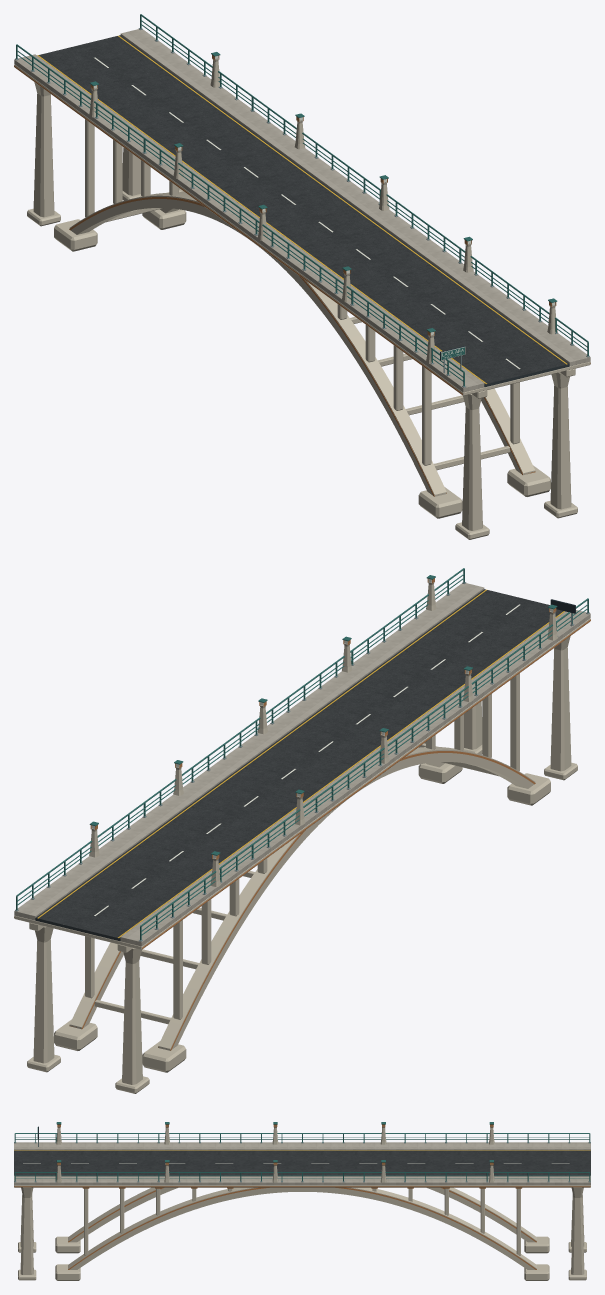
3 views of the same model, one above another, from view 1: azimuth 30°, elevation 25°; view 2: azimuth 150°, elevation 25°; view 3: azimuth 270°, elevation 25° (orthographic). The views are drawn at different scales.
Parts seen in each view (by area): view 1: Running course, Walkway, End bents, Twin parabolic arch ribs, Longitudinal handrails, Spandrel mullions, Chamfered foundations, Lantern pylons, Concrete deck table, Railing stanchions, Edge lines, Arch diaphragms (+1 smaller); view 2: Running course, Walkway, End bents, Twin parabolic arch ribs, Longitudinal handrails, Spandrel mullions, Chamfered foundations, Lantern pylons, Concrete deck table, Railing stanchions, Edge lines, Arch diaphragms (+1 smaller); view 3: Running course, Walkway, Twin parabolic arch ribs, Longitudinal handrails, End bents, Chamfered foundations, Concrete deck table, Spandrel mullions, Deck fascia reveal, Lantern pylons, Railing stanchions, Edge lines (+1 smaller).
Part boxes in pixels (x1,y1,x2,y2): Running course: [38, 35, 569, 387]; Walkway: [14, 29, 590, 392]; End bents: [33, 82, 571, 530]; Twin parabolic arch ribs: [69, 193, 535, 496]; Longitudinal handrails: [16, 14, 588, 381]; Spandrel mullions: [85, 119, 519, 465]; Chamfered foundations: [27, 191, 577, 539]; Lantern pylons: [89, 58, 557, 363]; Concrete deck table: [14, 64, 590, 395]; Railing stanchions: [16, 15, 588, 386]; Edge lines: [37, 35, 567, 383]; Arch diaphragms: [106, 189, 510, 470]; Running course: [35, 589, 563, 941]; Walkway: [14, 583, 590, 946]; End bents: [33, 636, 571, 1084]; Twin parabolic arch ribs: [69, 747, 535, 1050]; Longitudinal handrails: [16, 568, 588, 935]; Spandrel mullions: [85, 673, 519, 1019]; Chamfered foundations: [27, 745, 577, 1093]; Lantern pylons: [89, 582, 557, 886]; Concrete deck table: [14, 618, 590, 949]; Railing stanchions: [16, 569, 588, 940]; Edge lines: [37, 589, 564, 937]; Arch diaphragms: [94, 743, 498, 1024]; Running course: [14, 1150, 590, 1175]; Walkway: [14, 1142, 590, 1185]; Twin parabolic arch ribs: [68, 1187, 536, 1269]; Longitudinal handrails: [15, 1133, 589, 1178]; End bents: [20, 1187, 584, 1274]; Chamfered foundations: [18, 1236, 586, 1280]; Concrete deck table: [14, 1185, 590, 1187]; Spandrel mullions: [84, 1188, 520, 1255]; Deck fascia reveal: [14, 1186, 590, 1187]; Lantern pylons: [56, 1125, 494, 1182]; Railing stanchions: [14, 1133, 590, 1181]; Edge lines: [14, 1150, 590, 1150].
Bounding box in the file's own units: 10.88 × 14.86 × 64.
11 materials, 2 textured.
